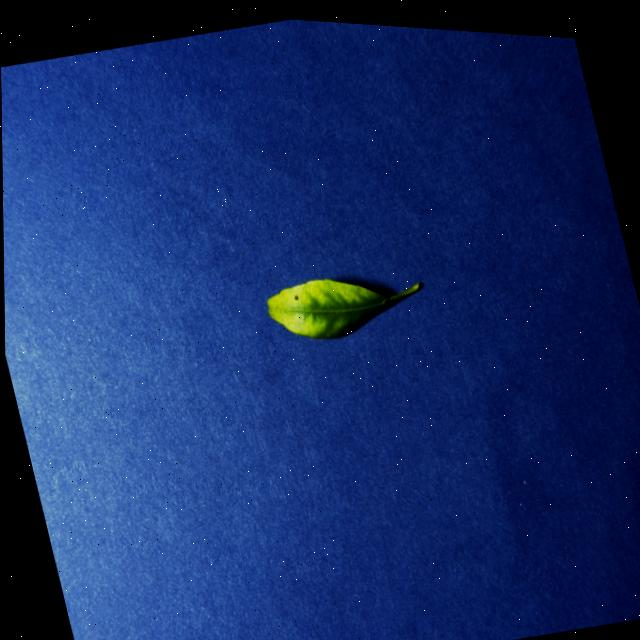greening: (267, 278, 420, 337)
